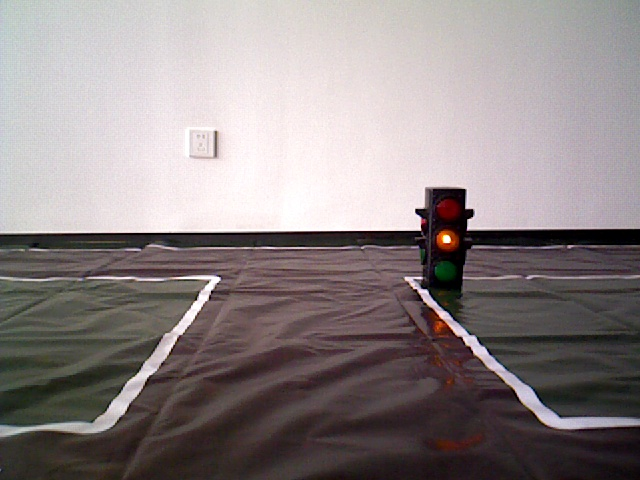yellow: (424, 180, 470, 290)
